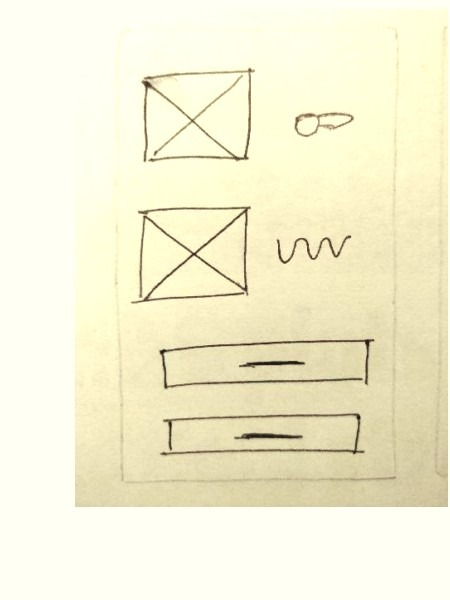button: (150, 335, 377, 394), (147, 409, 369, 462)
image: (137, 65, 259, 176), (130, 201, 254, 310)
switch: (286, 105, 361, 139)
text: (268, 225, 356, 268)
